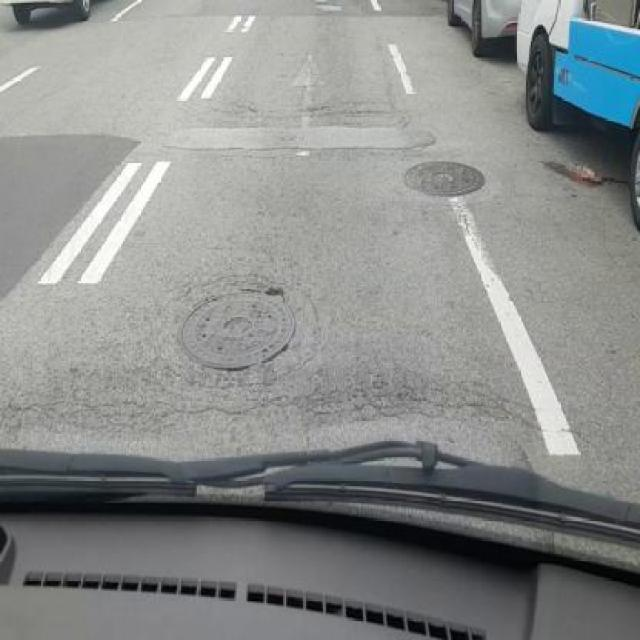Manhole: (176, 283, 296, 371), (402, 154, 496, 203)
